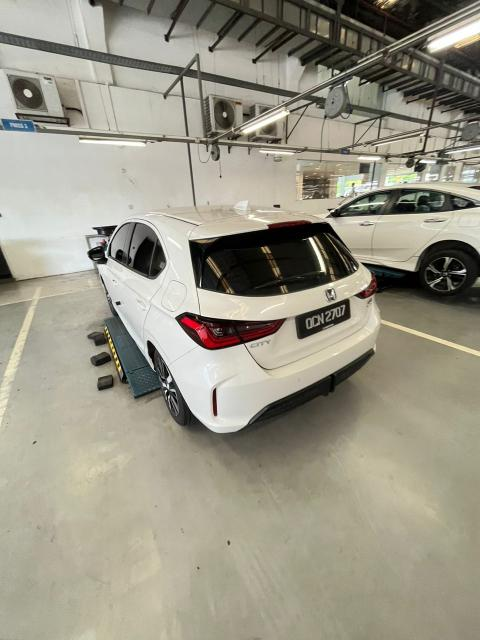License_Plate: (298, 295, 353, 337)
car: (87, 194, 384, 442)
